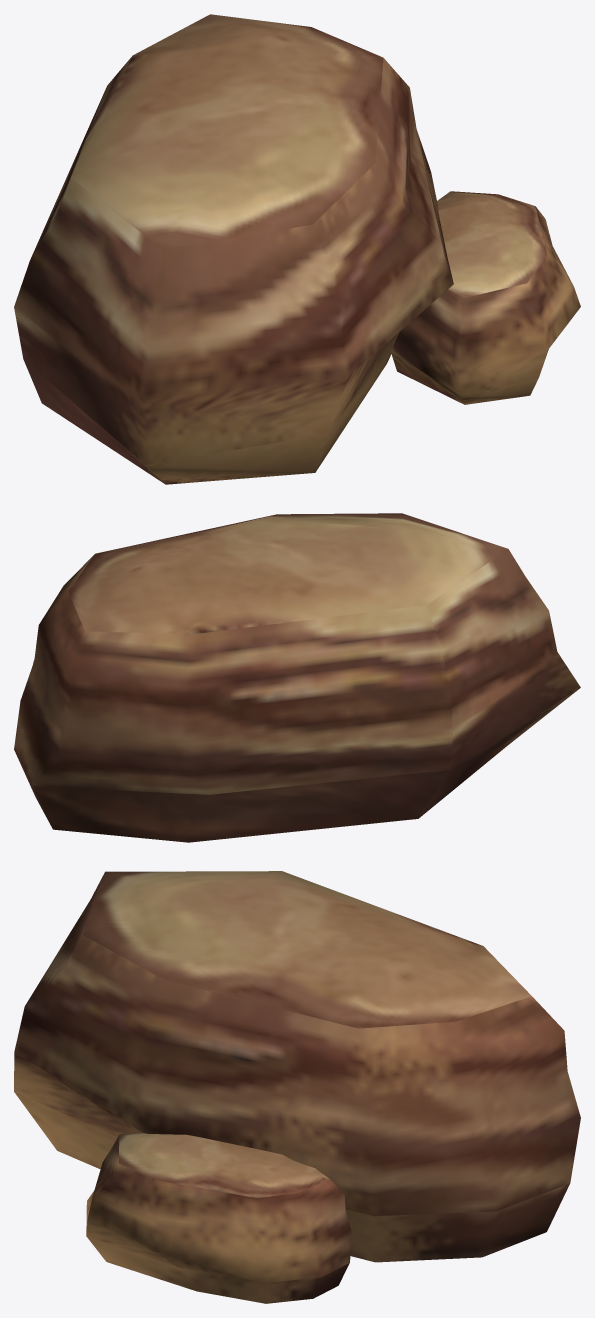
Rendered from shitou17.FBX.
The picture shows the model from 3 angles, top to bottom: view 1: azimuth 30°, elevation 25°; view 2: azimuth 150°, elevation 25°; view 3: azimuth 270°, elevation 25°; orthographic projection. The views are drawn at different scales.
Parts seen in each view (by area): view 1: 对象023; view 2: 对象023; view 3: 对象023.
Boxes of the visible parts, bbox=[...] form: 对象023: bbox=[14, 14, 580, 484]; 对象023: bbox=[14, 513, 580, 842]; 对象023: bbox=[14, 871, 580, 1303].
Bounding box in the file's own units: 104 × 50.08 × 103.
